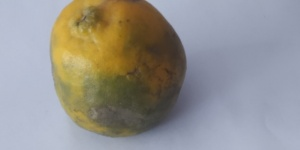BAD: (39, 1, 187, 136)
